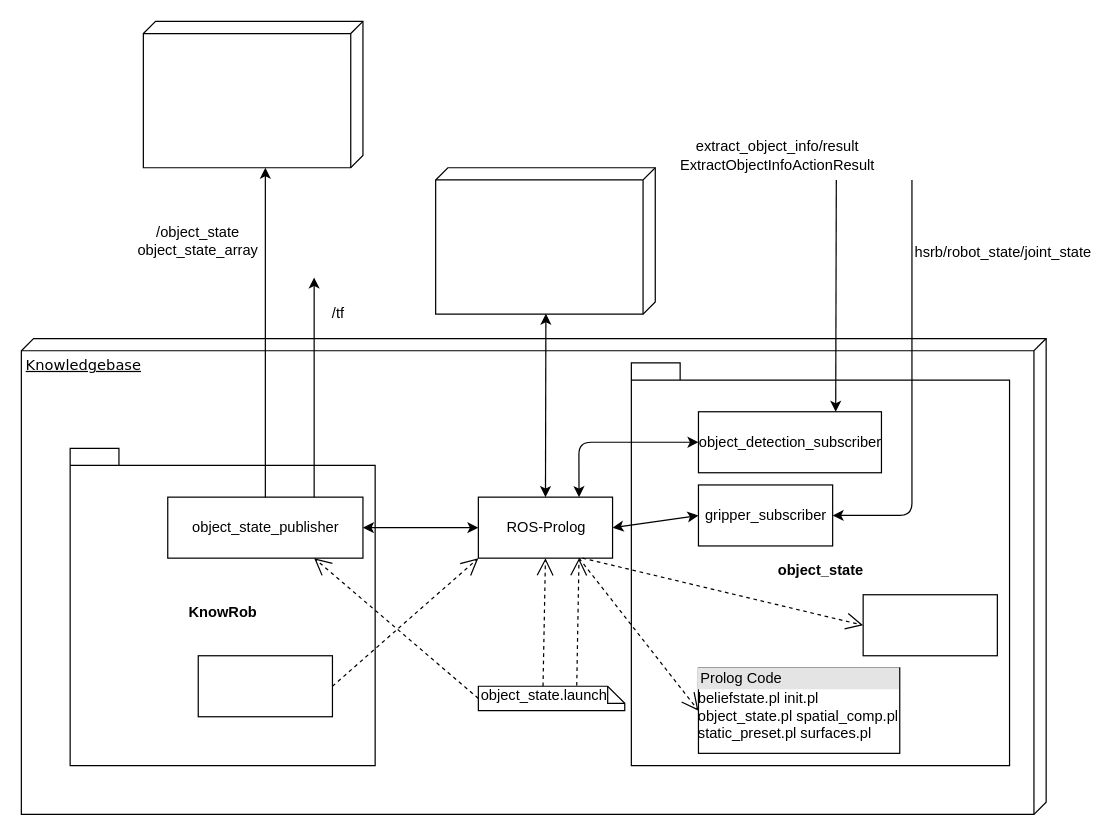
This 1116x836 diagram has some shape labels left out. Here are the shapes that lost their labels. From the top down, the centre of each, then its label:
the point at 252,94: Manipulation
the point at 544,240: Planning
the point at 929,625: owl
the point at 264,686: Prolog Code
